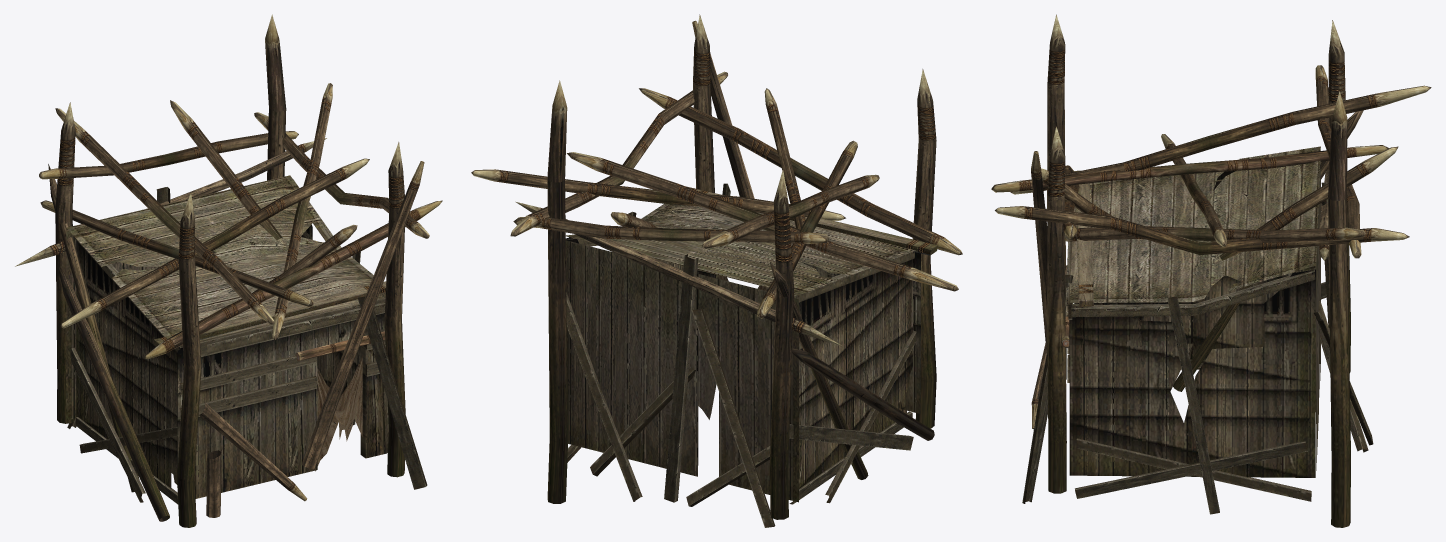
The model's file is gaint_buildb_05_d.fbx.
3 renders of one model, left to right at view 1: azimuth 30°, elevation 25°; view 2: azimuth 150°, elevation 25°; view 3: azimuth 270°, elevation 25°, orthographic. The views are drawn at different scales.
Visible parts, largest first — view 1: Object25; view 2: Object25; view 3: Object25.
Part boxes in pixels (x1,y1,x2,y2): Object25: [15, 14, 442, 527]; Object25: [471, 14, 962, 527]; Object25: [991, 14, 1431, 527].
Size of the model in its own units: 11.61 by 12 by 11.1.
